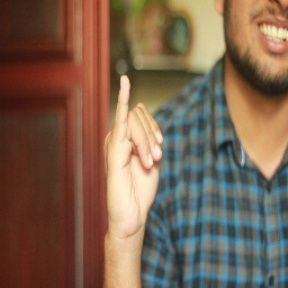I: (99, 73, 170, 232)
